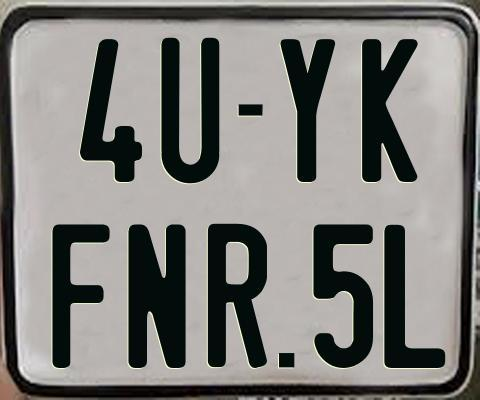4: (80, 37, 142, 180)
5: (311, 222, 375, 370)
F: (51, 224, 112, 369)
K: (362, 39, 424, 182)
L: (384, 222, 450, 370)
N: (127, 221, 186, 368)
R: (205, 221, 266, 367)
U: (160, 36, 220, 184)
Y: (279, 36, 339, 185)
